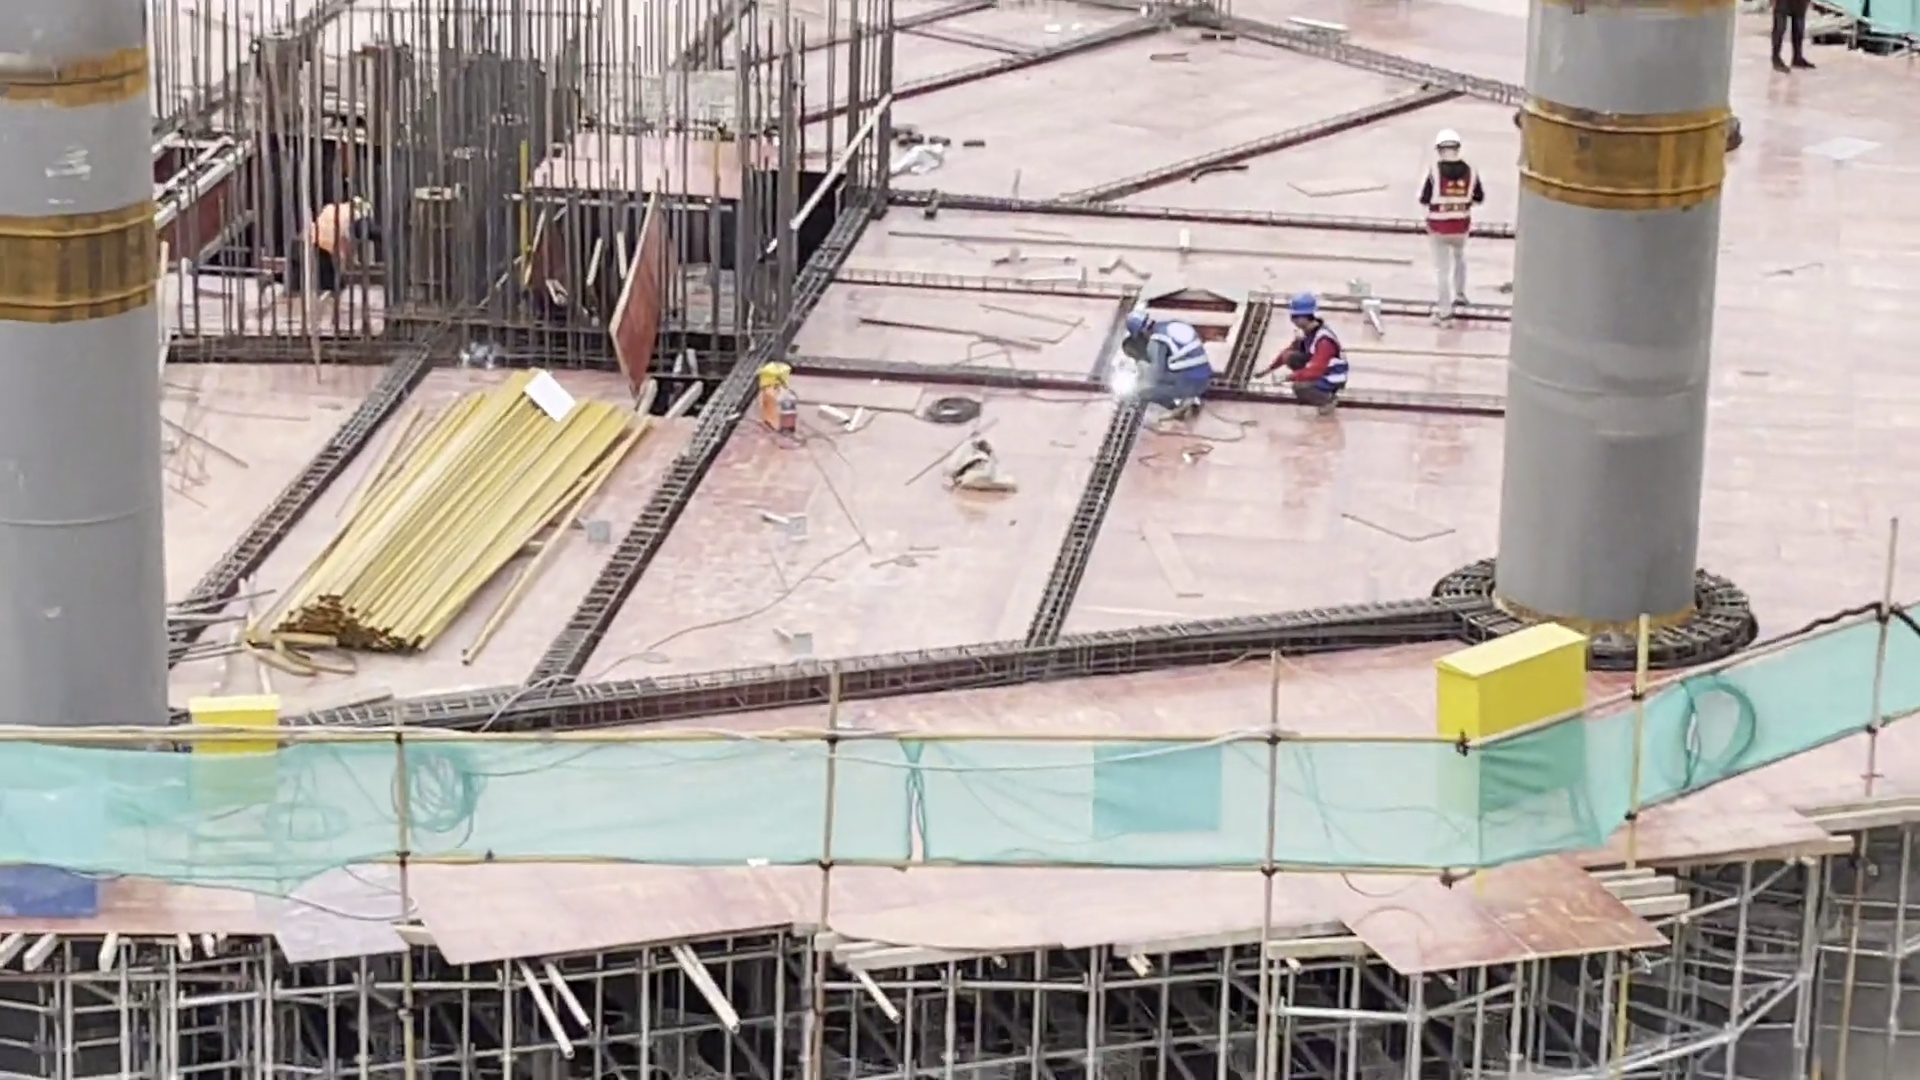ebox: (1429, 619, 1597, 863), (184, 697, 291, 888)
helmet: (1124, 308, 1150, 337), (1290, 291, 1319, 316), (1436, 128, 1464, 149)
person: (1417, 127, 1481, 339), (1269, 292, 1346, 426), (1122, 305, 1213, 417), (291, 186, 380, 290), (1771, 1, 1818, 88)
vest: (1424, 155, 1477, 241), (1151, 319, 1213, 392), (1301, 327, 1348, 388)
